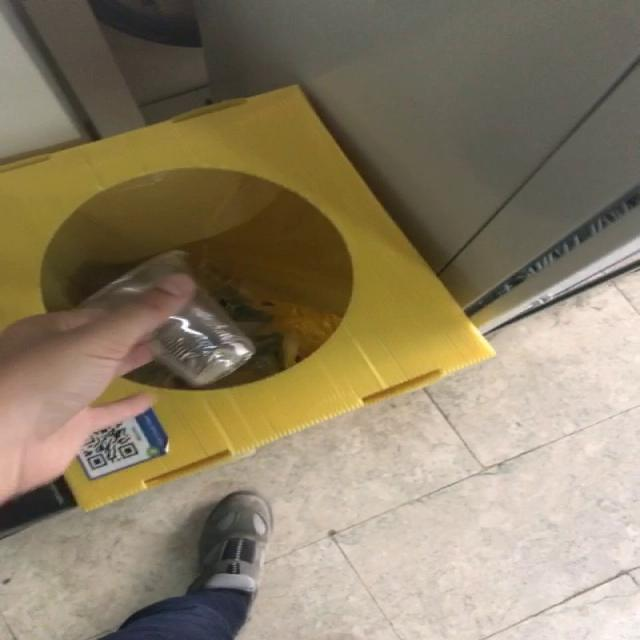plastic: (151, 287, 256, 388), (81, 250, 192, 307)
